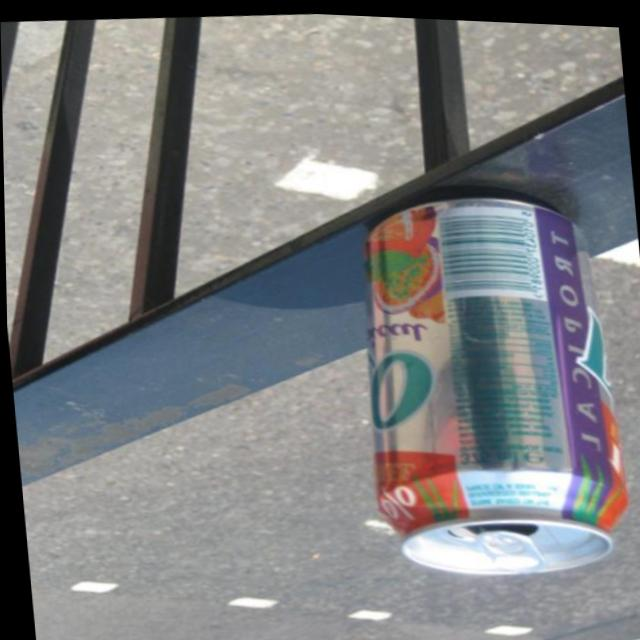metal: (367, 198, 627, 574)
